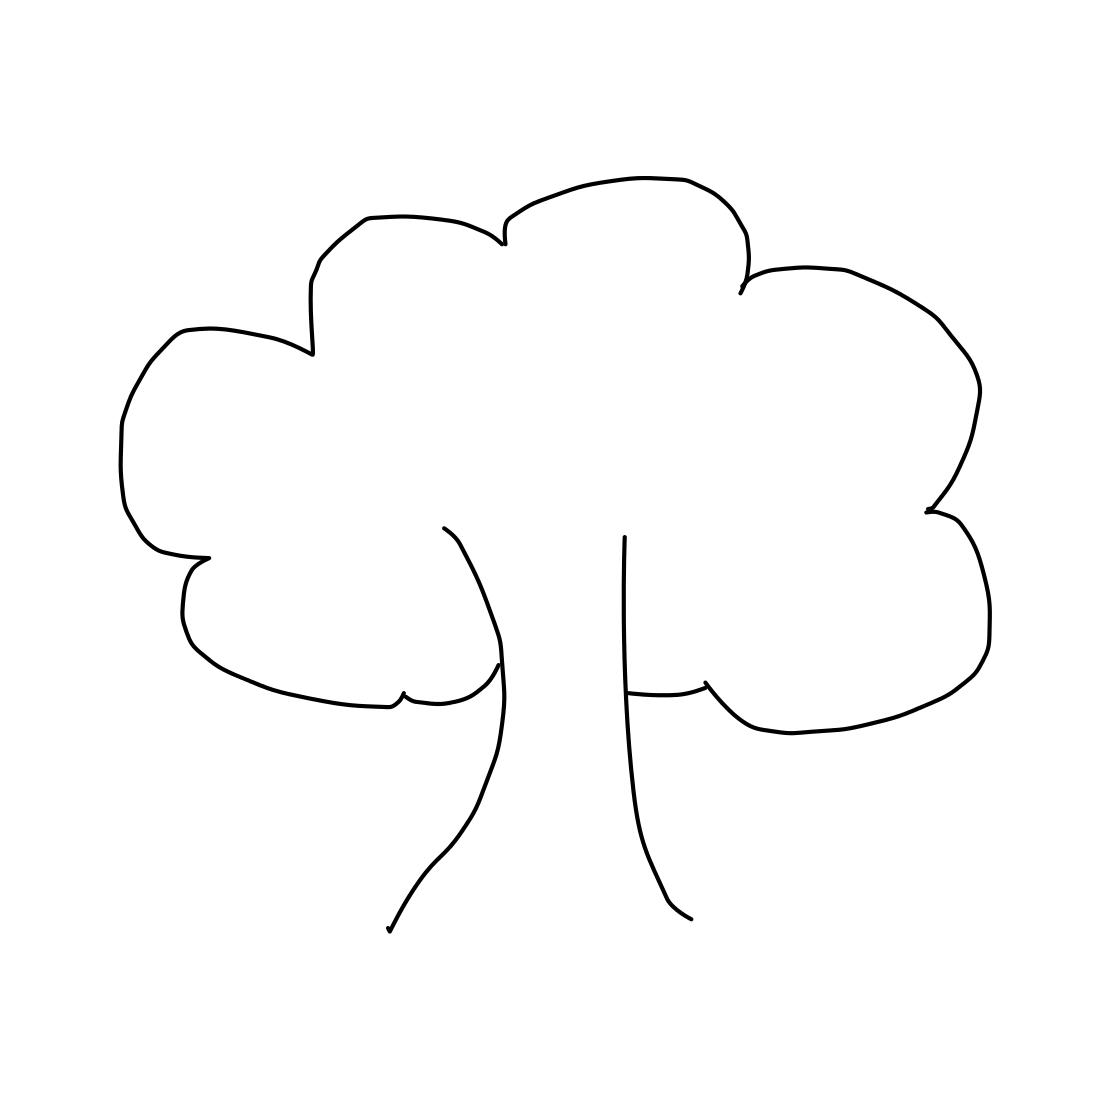Tree: (96, 132, 1015, 950)
